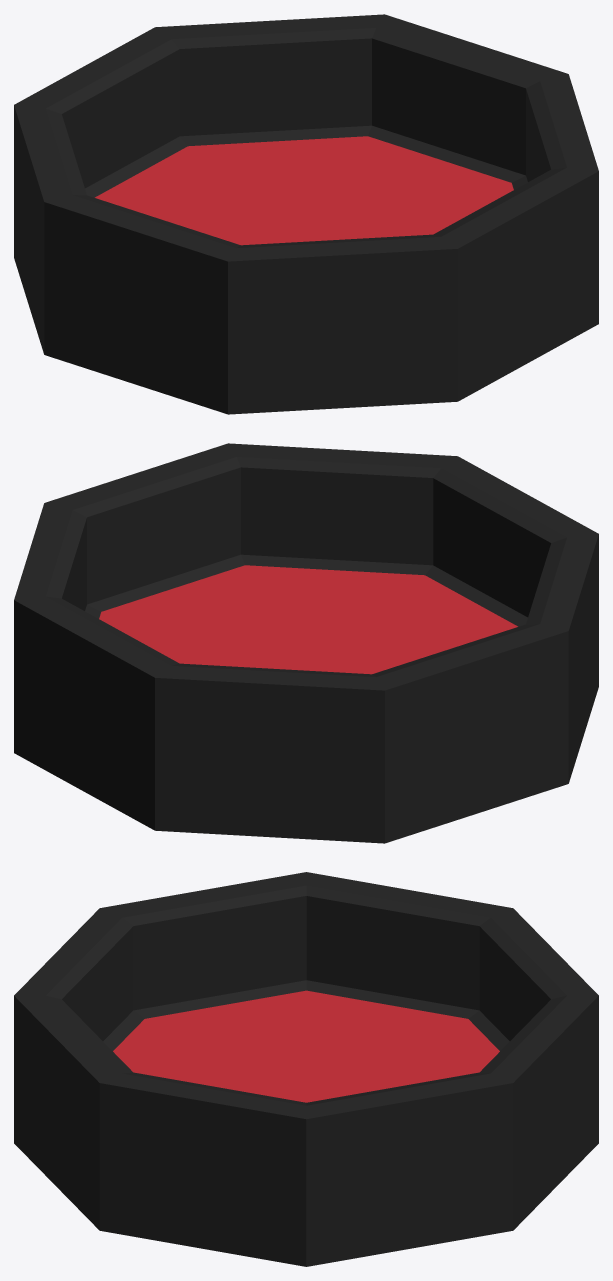
File: DiceTray.fbx
The picture shows the model from 3 angles, top to bottom: view 1: azimuth 30°, elevation 25°; view 2: azimuth 150°, elevation 25°; view 3: azimuth 270°, elevation 25°; orthographic projection. The views are drawn at different scales.
Parts seen in each view (by area): view 1: Cylinder; view 2: Cylinder; view 3: Cylinder.
Boxes of the visible parts, left/top/right/bottom form: Cylinder: left=14, top=14, right=598, bottom=414; Cylinder: left=14, top=443, right=598, bottom=843; Cylinder: left=14, top=872, right=598, bottom=1266.
Size of the model in its own units: 200 by 55.73 by 200.
